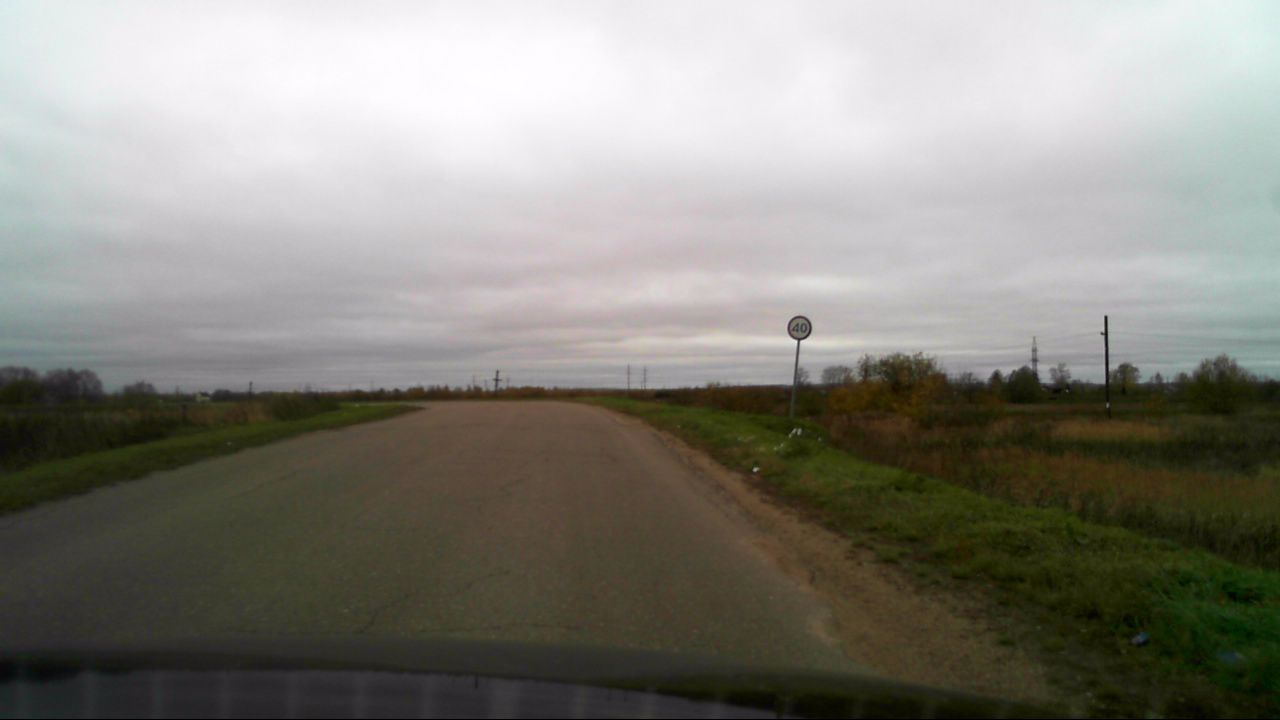speed_warning_40: (786, 315, 812, 340)
